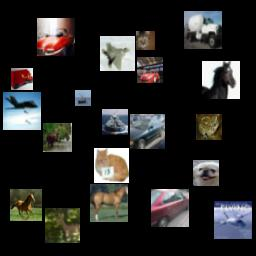airplane: (3, 92, 41, 130), (214, 201, 252, 239), (100, 36, 135, 71)
automobile: (151, 189, 189, 227), (37, 18, 75, 56), (130, 114, 165, 149), (137, 57, 163, 83)
cat: (94, 148, 129, 183), (136, 31, 155, 50)
deer: (45, 208, 80, 243), (43, 123, 72, 152)
dog: (193, 160, 219, 186)
frog: (196, 114, 222, 140)
ship: (102, 109, 128, 135), (75, 90, 91, 106)
truck: (184, 11, 222, 49), (11, 68, 33, 90)
